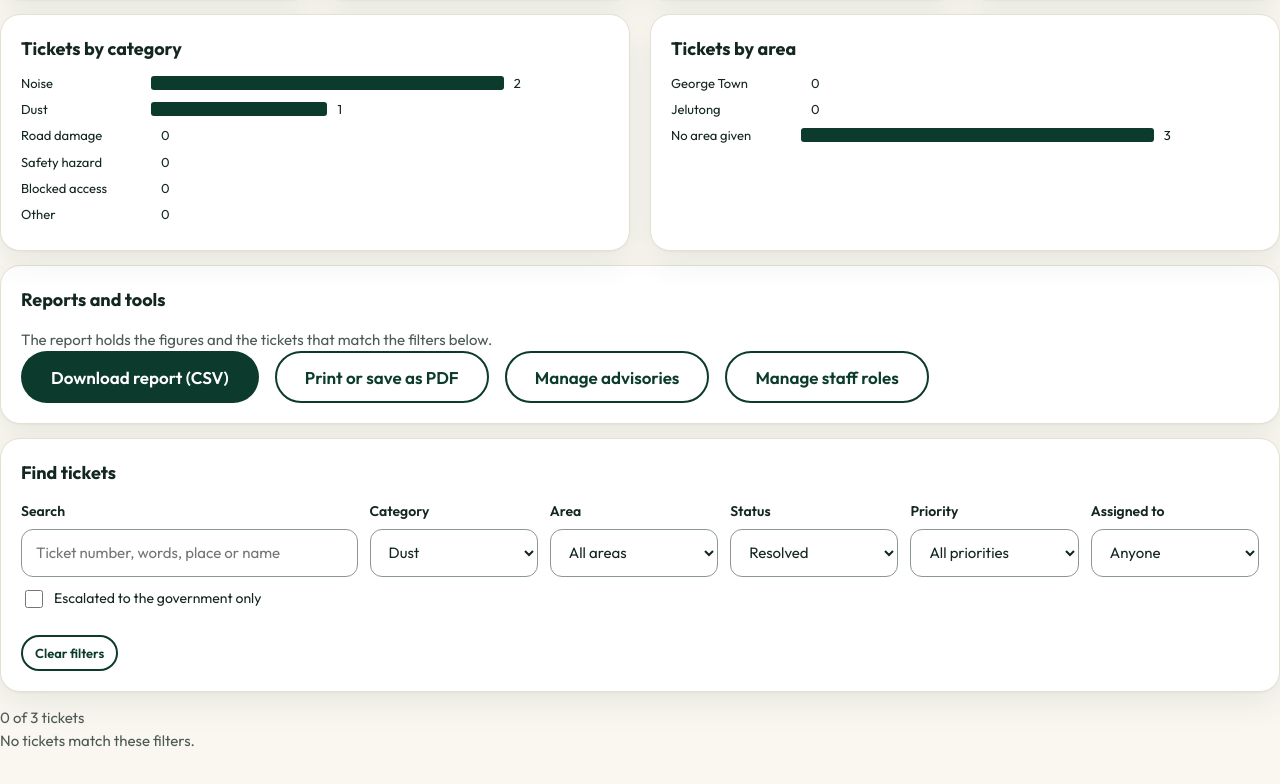
Test: dashboard: search and filter (UC03) › says when nothing matches, and Clear filters shows everything again
The width and height of the screenshot is (1280, 784).
(page scrolled)
expect the text "No tickets match these filters." is shown: met, box [0,731,195,750]
Click the button "Clear filters": (70,653) [21,635,118,671]
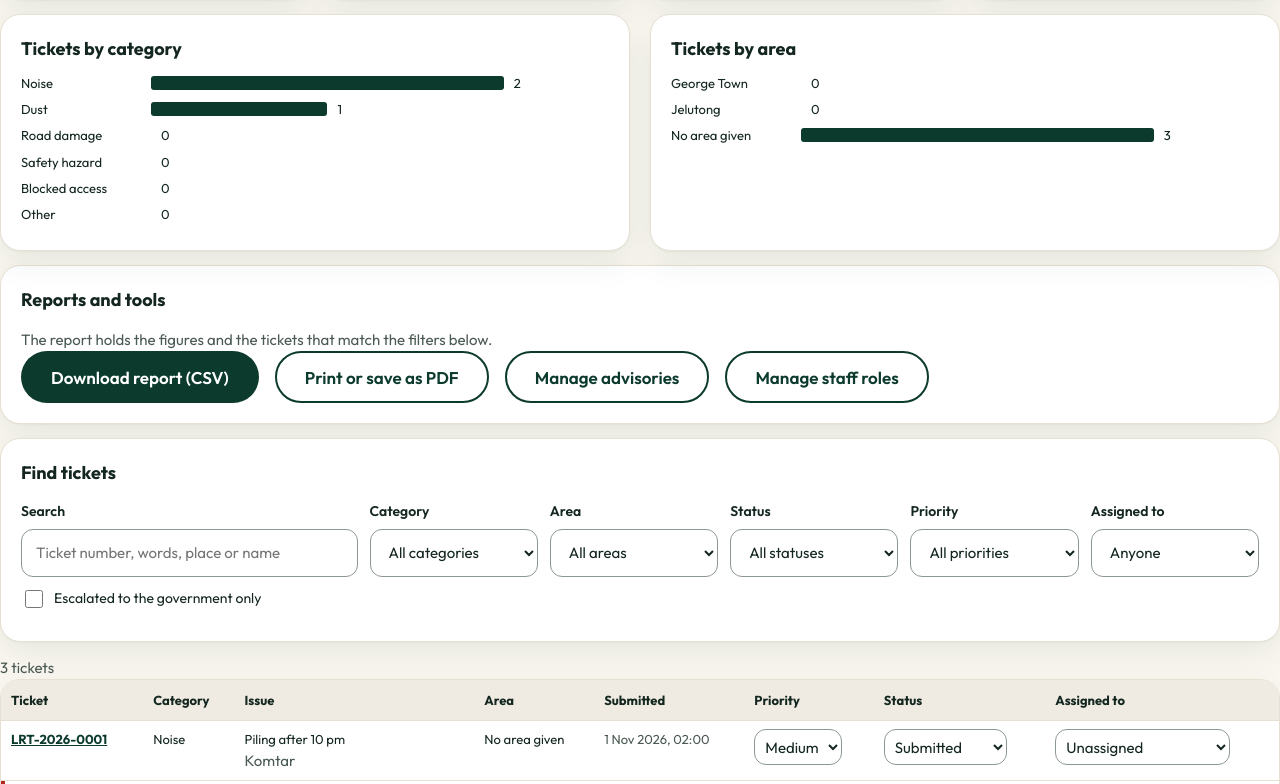
expect the button "Clear filters" is gone: met
